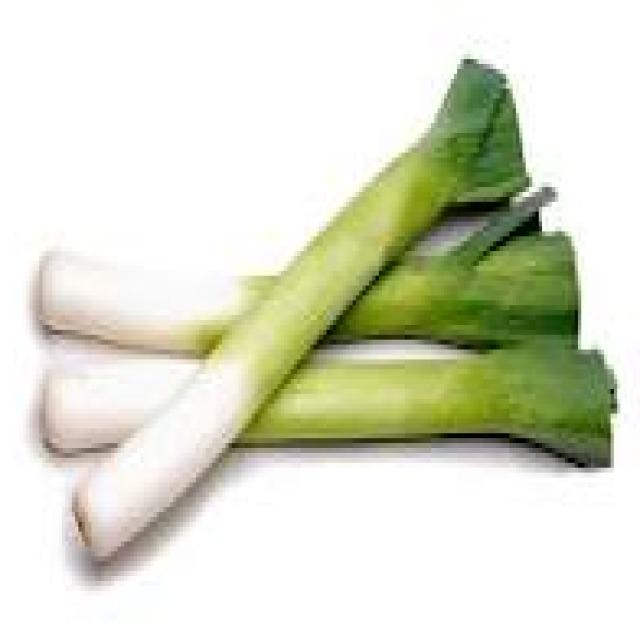greenonions: (16, 34, 614, 600)
